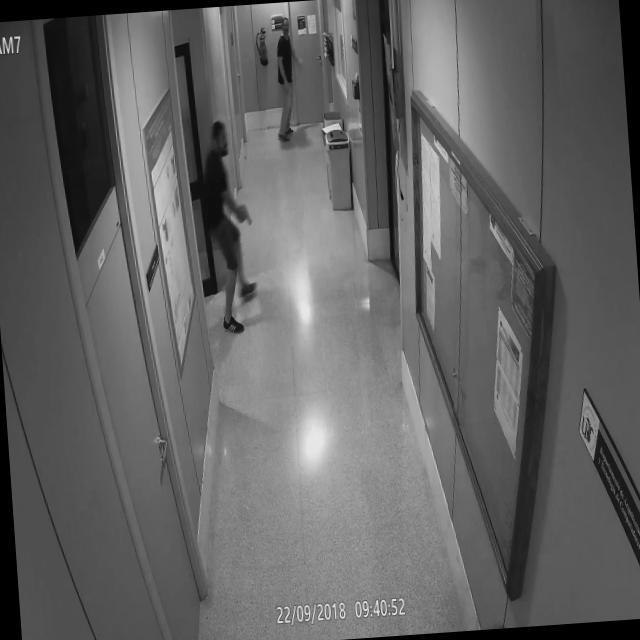gun: (234, 196, 255, 233)
person: (268, 14, 304, 142)
person with a gun: (196, 118, 262, 339)
